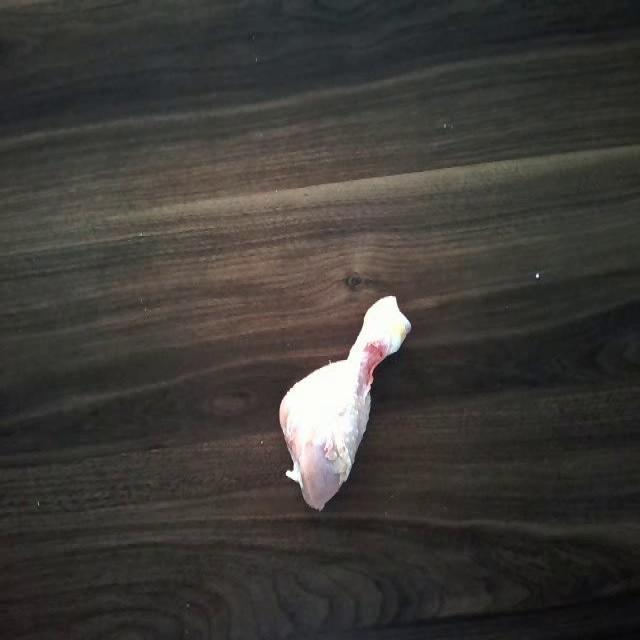leg: (276, 290, 412, 510)
